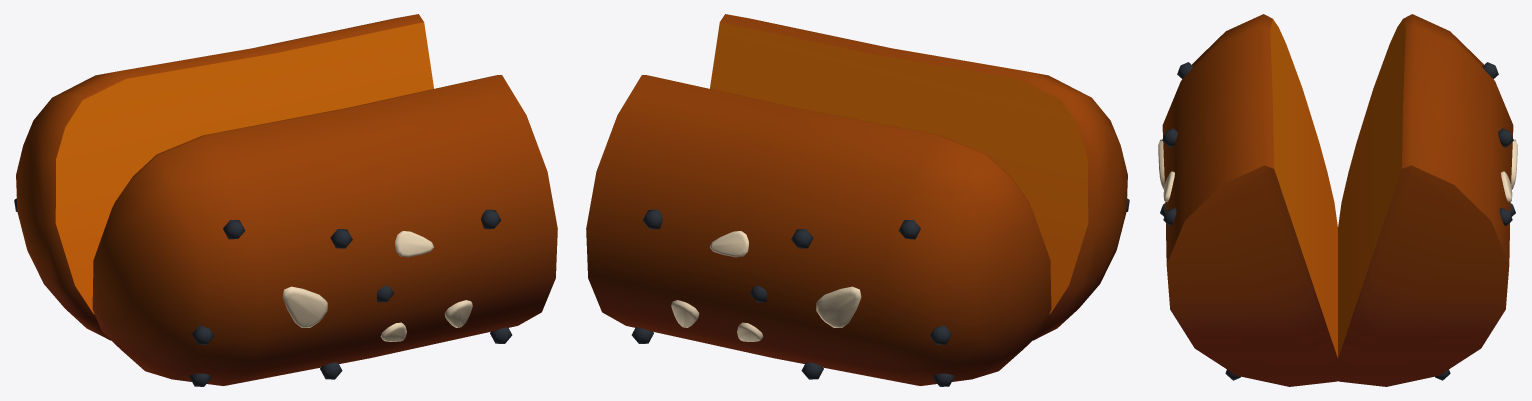
File: HotDog_bun_with_seeds_half.004.fbx
3 renders of one model, left to right at view 1: azimuth 30°, elevation 25°; view 2: azimuth 150°, elevation 25°; view 3: azimuth 270°, elevation 25°, orthographic. The views are drawn at different scales.
Parts seen in each view (by area): view 1: HotDog_bun_with_seeds_half.004; view 2: HotDog_bun_with_seeds_half.004; view 3: HotDog_bun_with_seeds_half.004.
Boxes of the visible parts, box(x1,y1,x2,y2) form: HotDog_bun_with_seeds_half.004: box(14, 14, 557, 386); HotDog_bun_with_seeds_half.004: box(586, 14, 1129, 386); HotDog_bun_with_seeds_half.004: box(1158, 14, 1517, 386).
Bounding box in the file's own units: 76.52 × 69.2 × 49.72.
